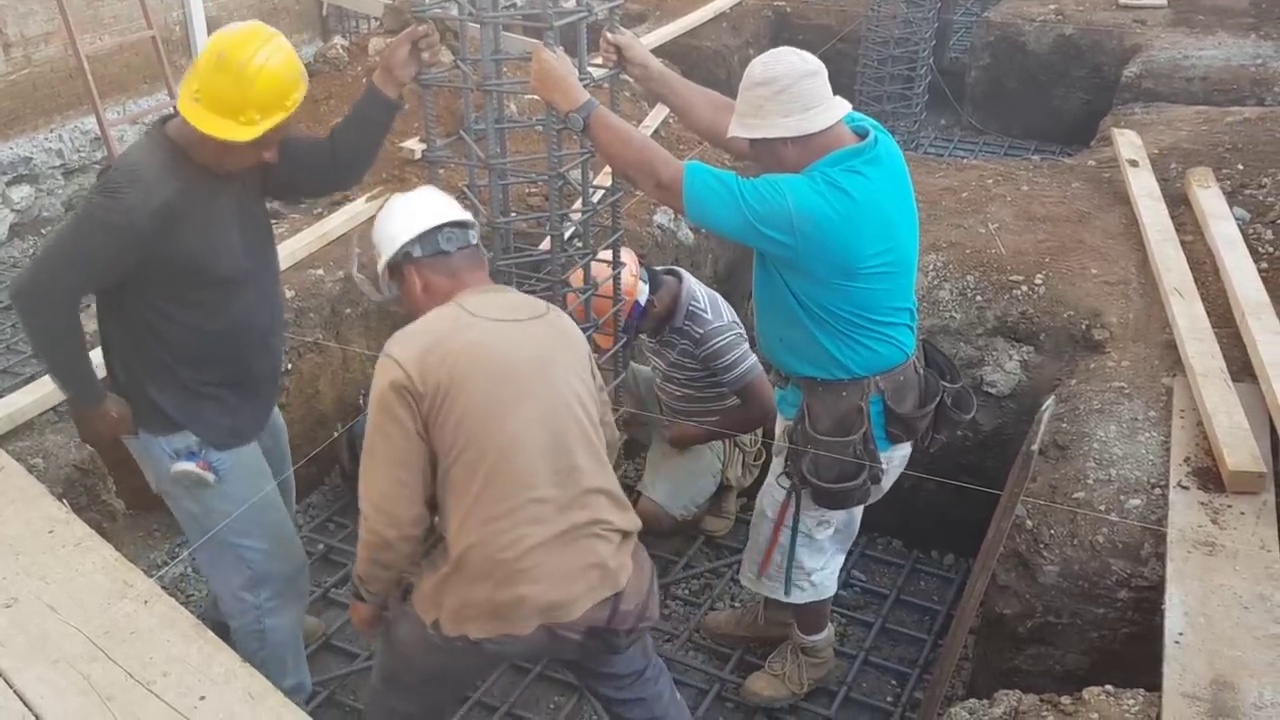helmet: (162, 18, 302, 144), (364, 185, 479, 286), (573, 244, 647, 329)
helmet-off: (728, 47, 862, 176)
helmet-on: (145, 18, 309, 186), (363, 186, 500, 323), (571, 246, 692, 360)
person: (523, 27, 939, 701), (13, 18, 326, 701), (348, 183, 693, 718), (573, 240, 781, 543)
